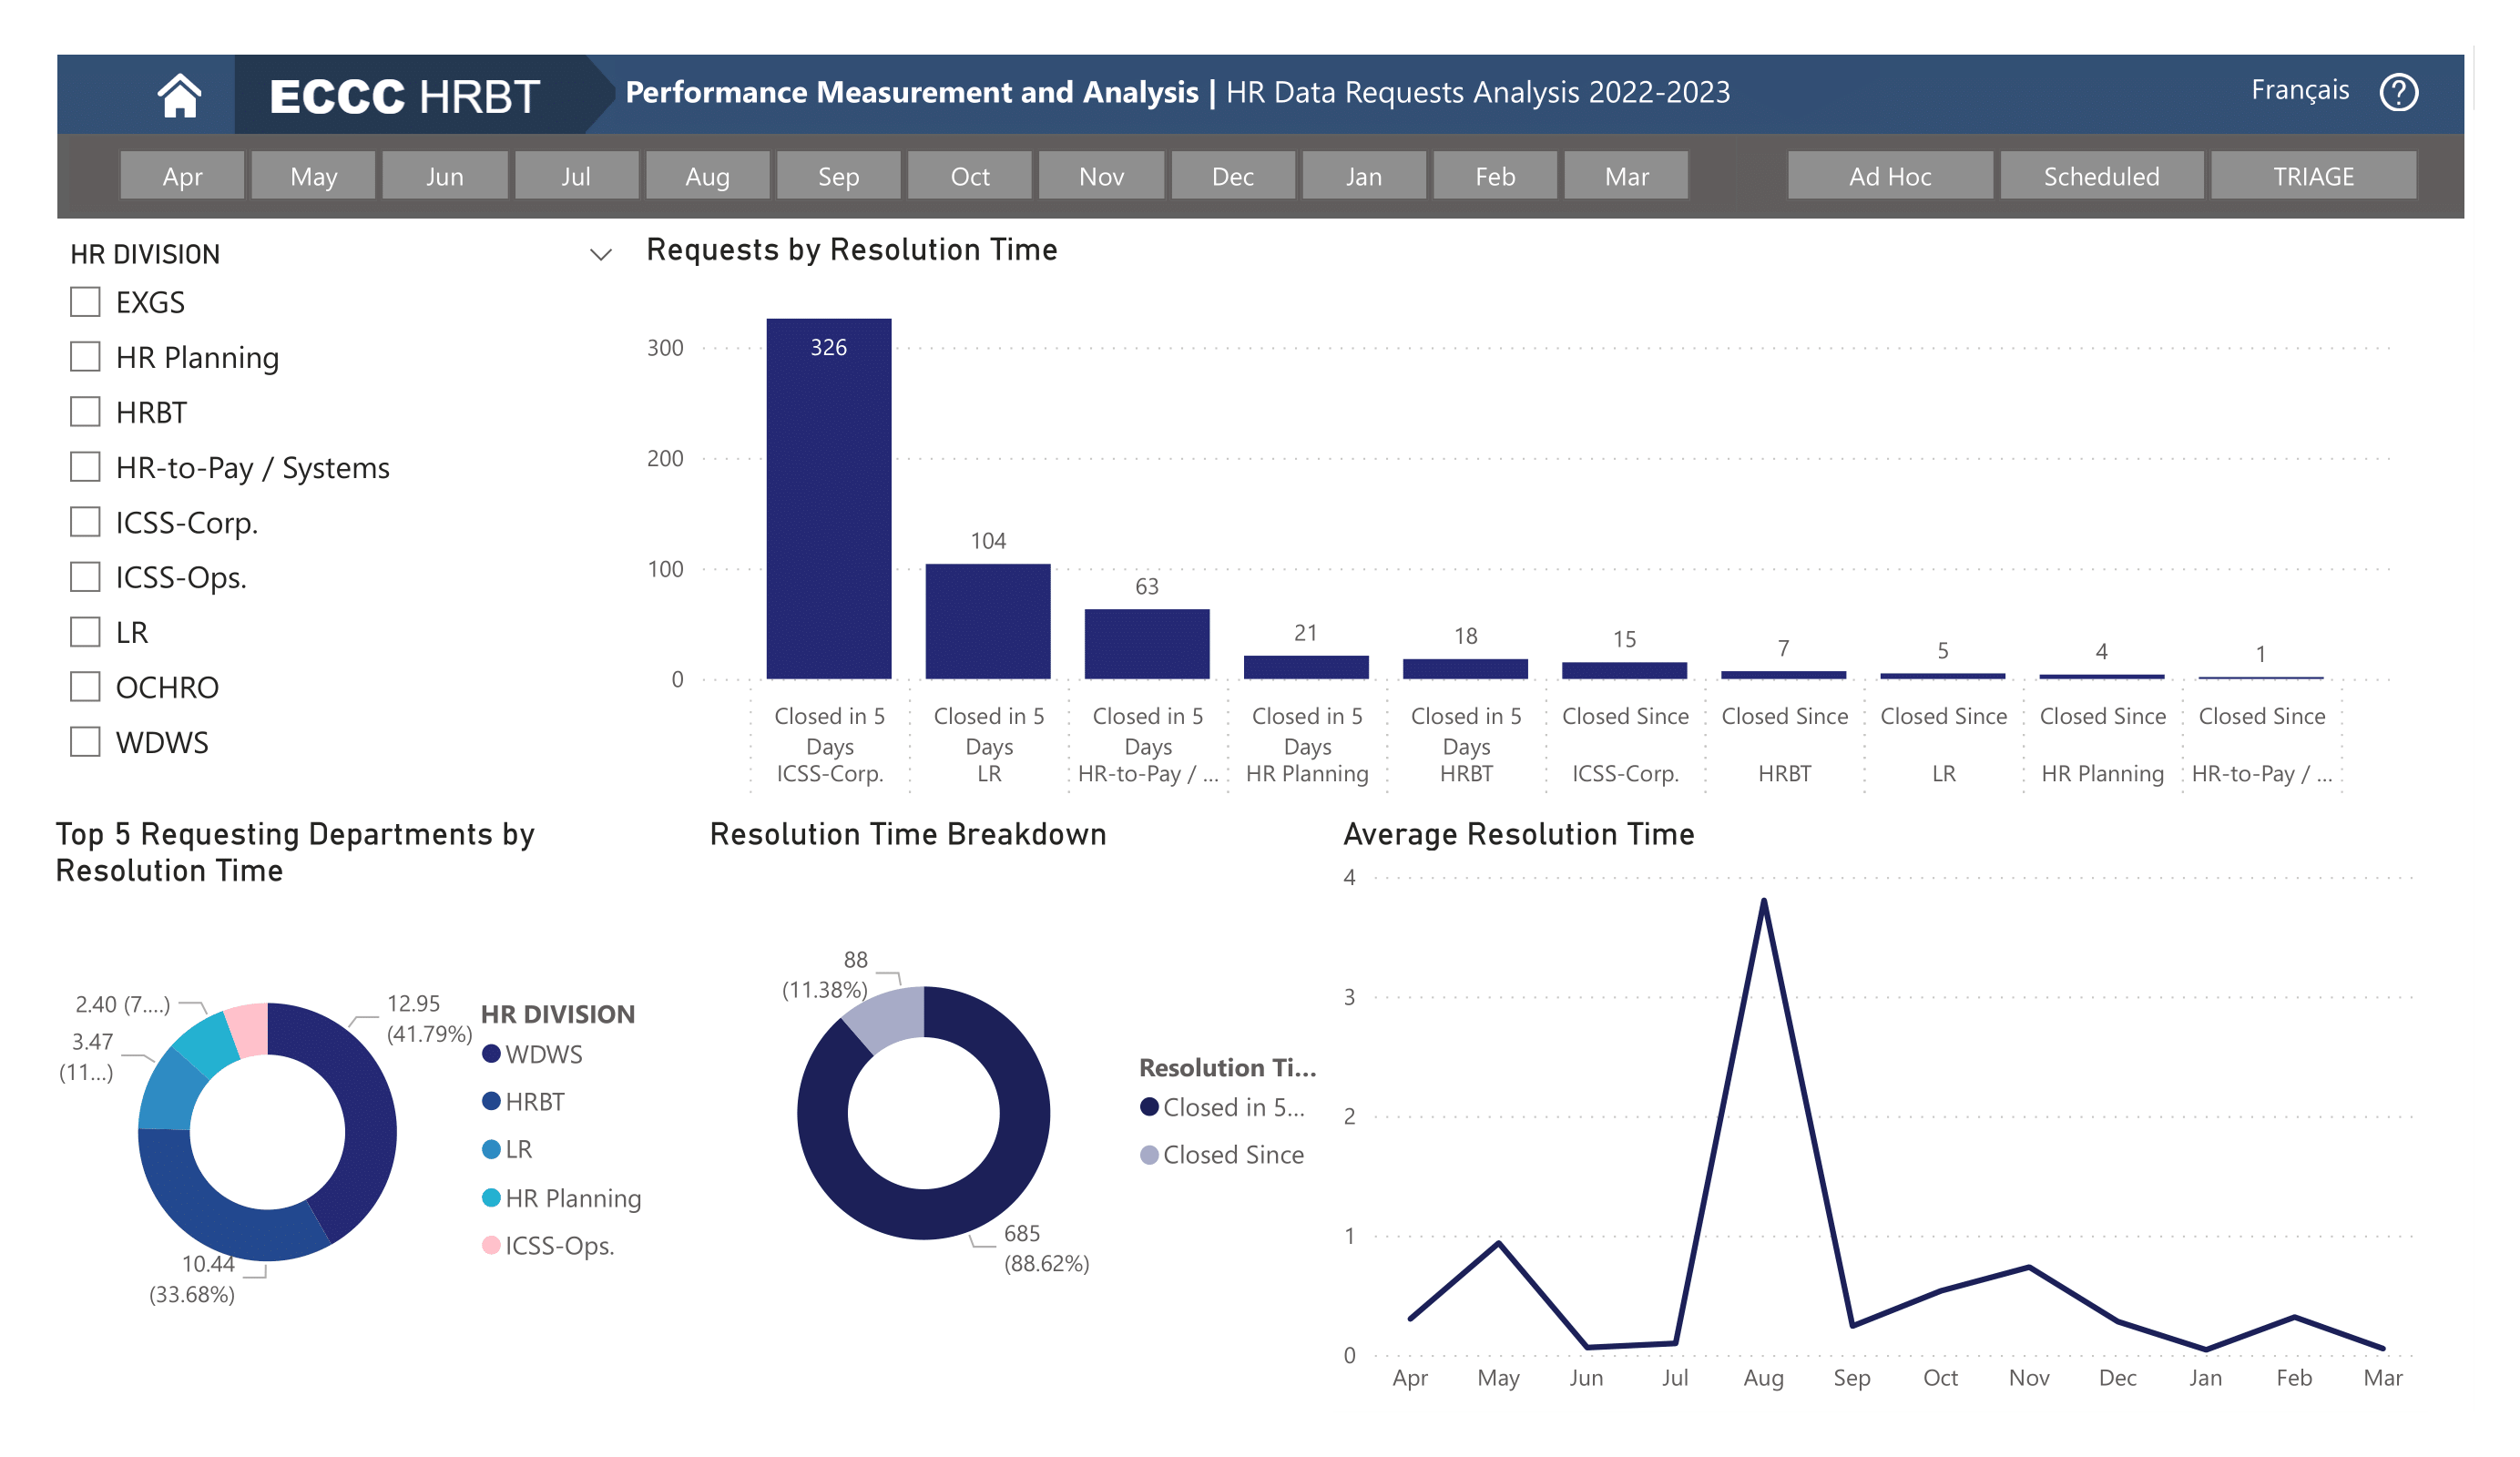

This screenshot's page, from the dashboard's own definition file:
{"tool":"powerbi","page":{"name":"Requesting Department Resolution","canvas":[1280,720],"ordinal":9},"visuals":[{"type":"image","box":[0.9,0,1278.3,96],"z":0},{"type":"lineChart","title":"Average Resolution Time","fields":{"Category":["MonthOrder.MonthOrderDesc"],"Y":["Avg(HR_DATA_REQUEST_REPORT.RESOLUTION_TIME)"]},"box":[678.2,405.2,577.2,314.8],"z":1000},{"type":"columnChart","title":"Requests by Resolution Time","fields":{"Category":["Sheet4.HR DIVISION","HR_DATA_REQUEST_REPORT.CLOSEDIN5DAYS"],"Y":["CountNonNull(HR_DATA_REQUEST_REPORT.INCIDENT_REF)"]},"box":[311.9,96.2,928.9,309],"z":2000},{"type":"image","box":[54.6,8.8,32.6,32.6],"z":3000},{"type":"actionButton","box":[1159.4,3.1,66.2,38.1],"z":4000},{"type":"image","box":[1225.7,8.8,30,30],"z":5000},{"type":"slicer","fields":{"Values":["MonthOrder.MonthOrderDesc"]},"box":[12.6,47.6,878.4,39.8],"z":6000},{"type":"slicer","fields":{"Values":["HR_DATA_REQUEST_REPORT.INC_CAT_N"]},"box":[891,47.6,382.8,39.8],"z":7000},{"type":"donutChart","title":"Resolution Time Breakdown","fields":{"Category":["HR_DATA_REQUEST_REPORT.CLOSEDIN5DAYS"],"Y":["CountNonNull(HR_DATA_REQUEST_REPORT.INCIDENT_REF)"]},"box":[344.9,405.2,333.3,296.4],"z":8000},{"type":"slicer","fields":{"Values":["Sheet4.HR DIVISION"]},"box":[0,96.2,311.9,309],"z":9000},{"type":"donutChart","title":"Top 5 Requesting Departments by Resolution Time","fields":{"Category":["Sheet4.HR DIVISION"],"Y":["Avg(HR_DATA_REQUEST_REPORT.RESOLUTION_TIME)"]},"box":[0,405.2,333.3,296.4],"z":10000},{"type":"textbox","box":[300,8,666,33],"z":11000}]}

Visuals, with their boxes on the page's 1280x720 design canvas (x1, y1, x2, y2). These are canvas units, not pixel positions in the 2520x1457 screenshot, which may show the page scaled, cropped or inside an application window:
image: x1=1, y1=0, x2=1279, y2=96
"Average Resolution Time" lineChart: x1=678, y1=405, x2=1255, y2=720
"Requests by Resolution Time" columnChart: x1=312, y1=96, x2=1241, y2=405
image: x1=55, y1=9, x2=87, y2=41
actionButton: x1=1159, y1=3, x2=1226, y2=41
image: x1=1226, y1=9, x2=1256, y2=39
slicer - MonthOrder.MonthOrderDesc: x1=13, y1=48, x2=891, y2=87
slicer - HR_DATA_REQUEST_REPORT.INC_CAT_N: x1=891, y1=48, x2=1274, y2=87
"Resolution Time Breakdown" donutChart: x1=345, y1=405, x2=678, y2=702
slicer - Sheet4.HR DIVISION: x1=0, y1=96, x2=312, y2=405
"Top 5 Requesting Departments by Resolution Time" donutChart: x1=0, y1=405, x2=333, y2=702
textbox: x1=300, y1=8, x2=966, y2=41
